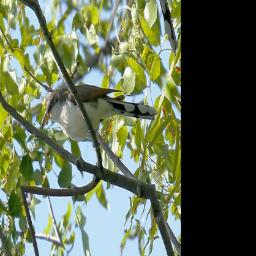Cuckoo: (38, 0, 159, 237)
